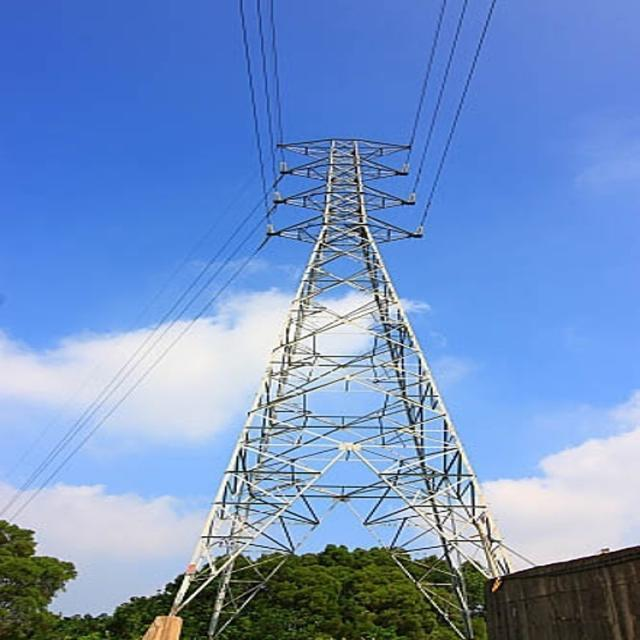non-critical vegetation: (190, 113, 492, 572)
